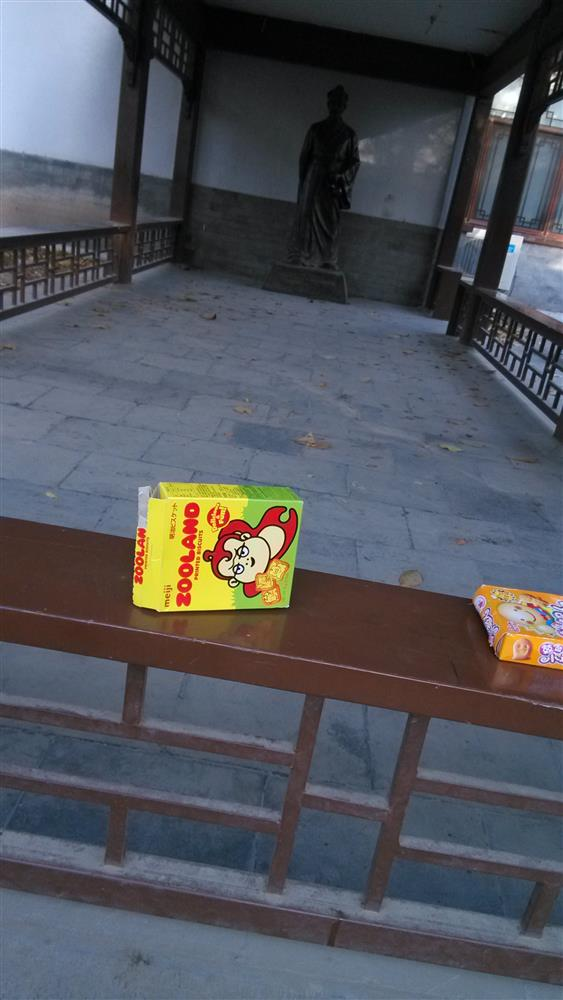zooland: (132, 480, 301, 616)
